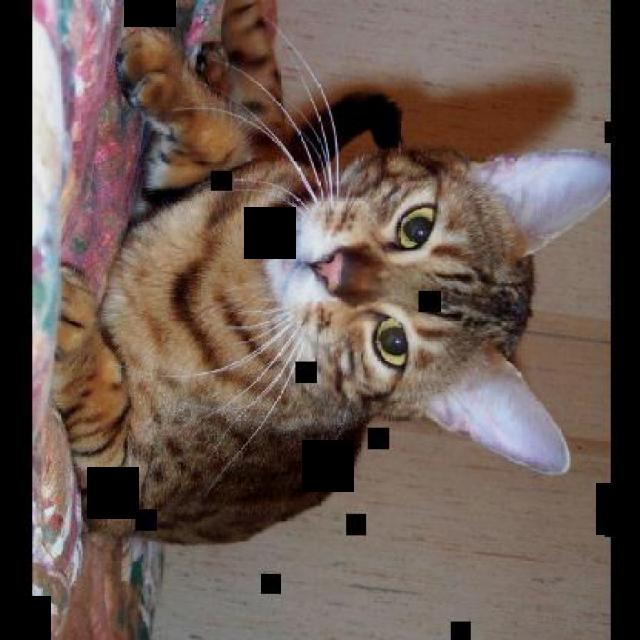unauthorized: (48, 0, 609, 548)
